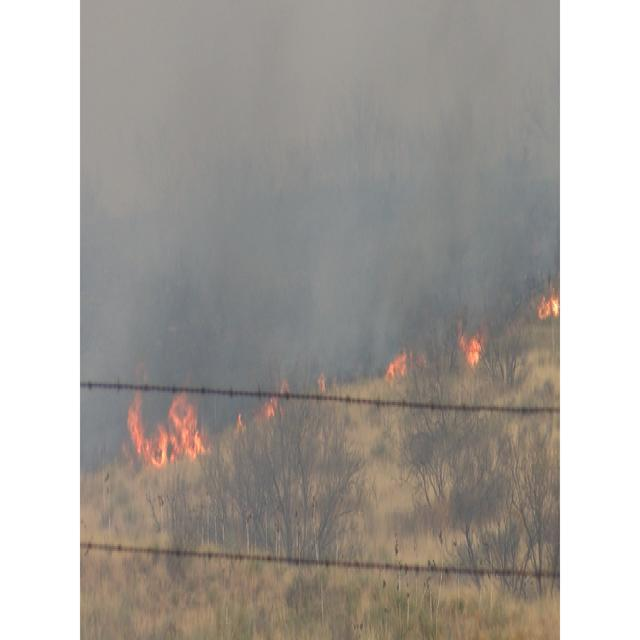Fire: (122, 381, 209, 472), (259, 370, 290, 428), (459, 317, 486, 367), (384, 340, 413, 382), (535, 286, 560, 322), (232, 406, 246, 439)
Smoke: (103, 0, 558, 394)
